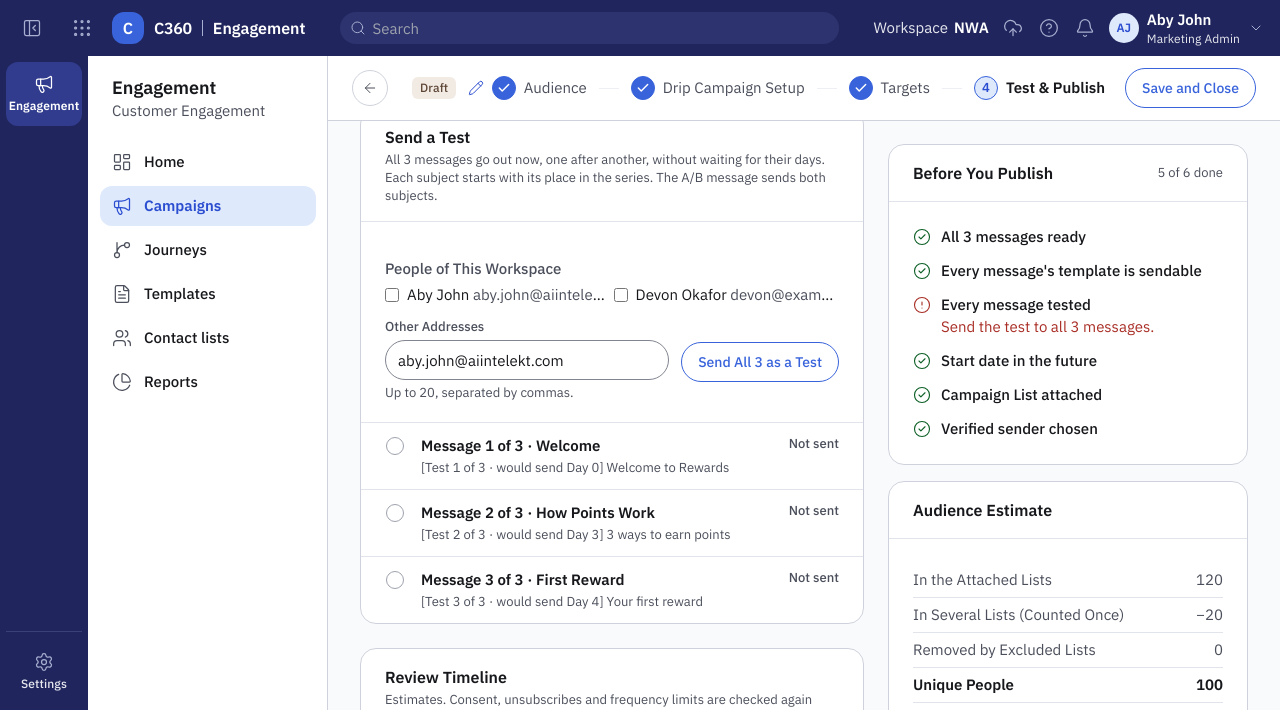
Send All: every message to the testers, the rows sent, the toast, the checklist and the status move on, and the setup counts as complete
This screenshot has width=1280, height=710.
(page scrolled)
Expected: the text "All 3 messages go out now, one after another, without waiting for their days. Each subject starts with its place in the" is shown, [385,151,826,204]
Expected: the text "Draft" is shown, [412,77,456,99]
Replace the text in the field labelled "Other Addresses" with "qa@example.com" at (527, 360), box [385,340,669,380]
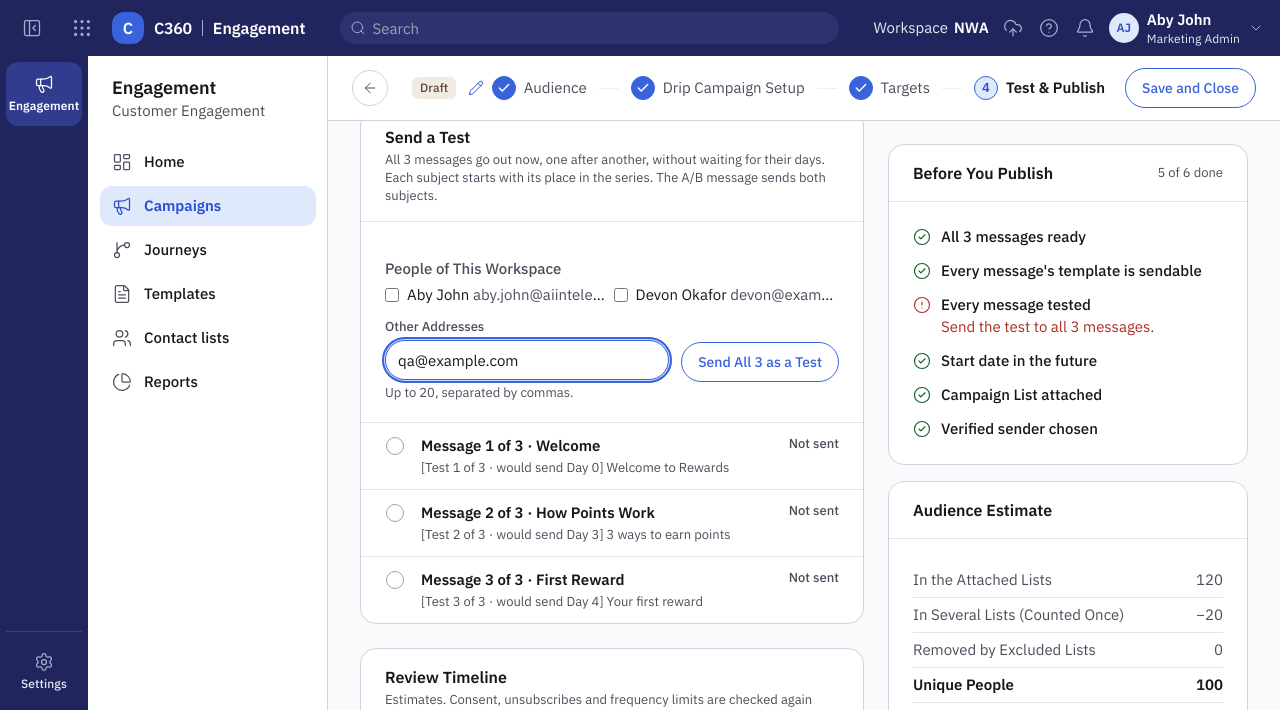
Click the button "Send All 3 as a Test" at (760, 362), box [681,342,839,382]
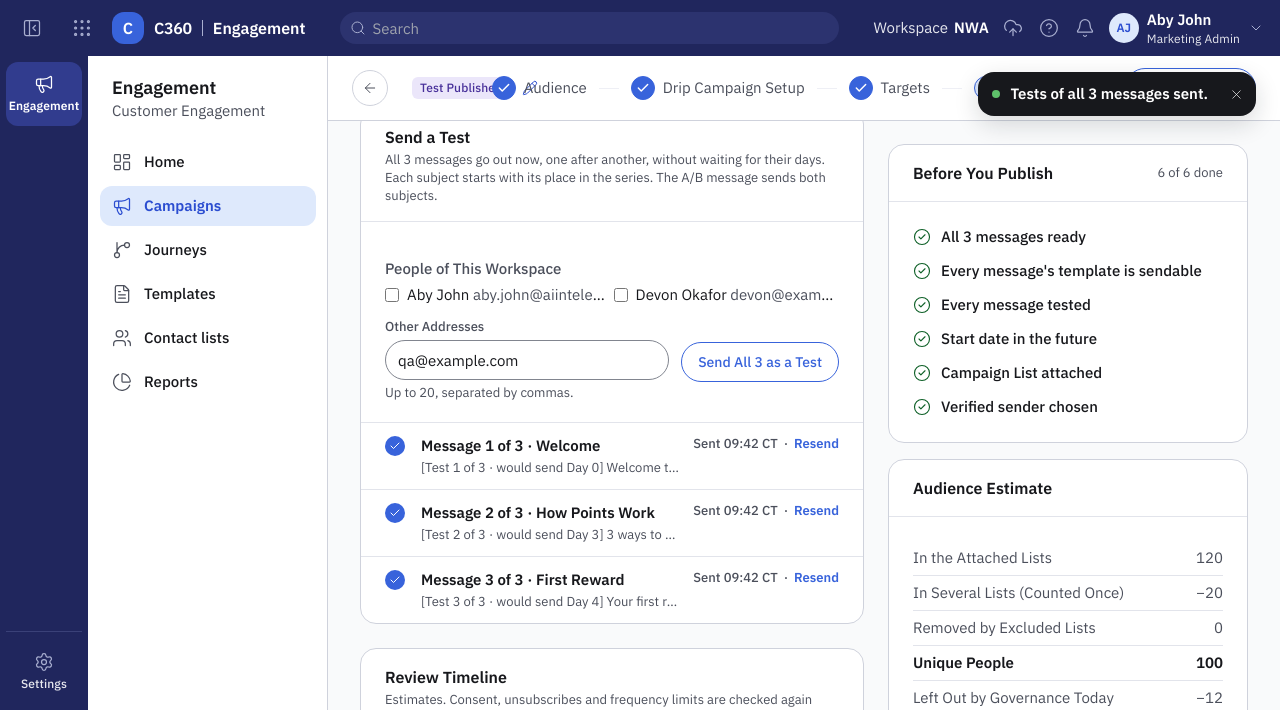
Result: the text "Tests of all 3 messages sent." is shown at [1010,83,1208,105]
Result: the text "Test Published" is shown at [412,77,510,99]
